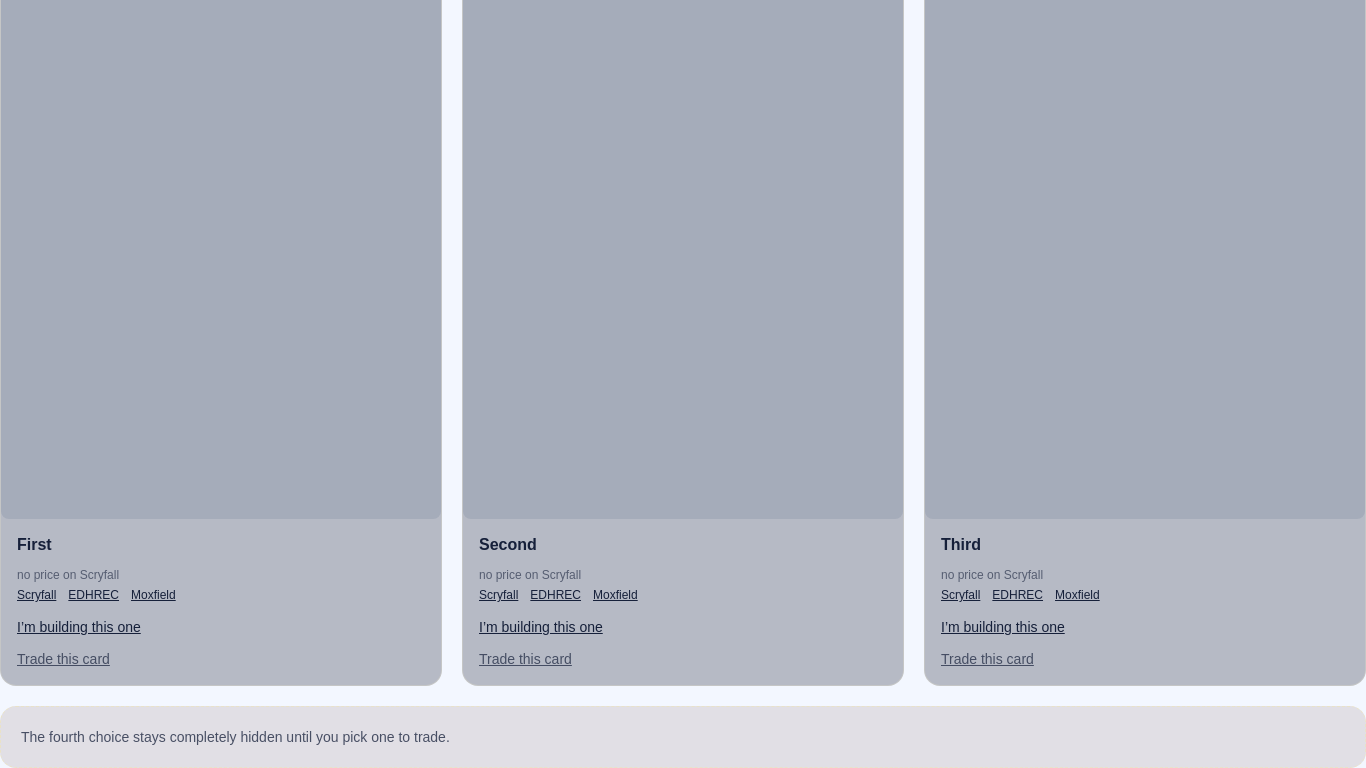
DemoCardTrade › removes every trade control once the cash-in is spent
(page scrolled)
Click the button "Trade this card" below "First". click: x=63, y=659
box: [17,649,110,669]
(page scrolled)
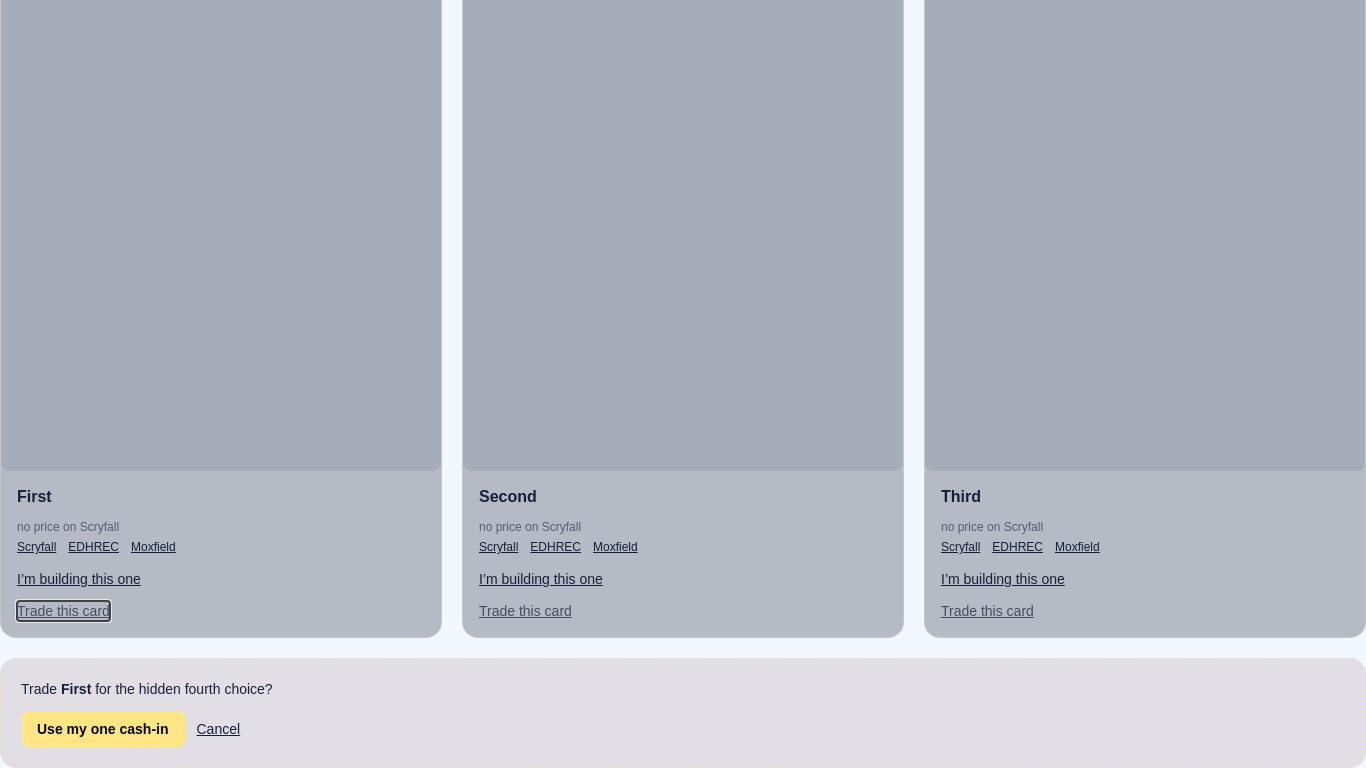
Click the button "Use my one cash-in". click: x=103, y=729
box: [21,711,184,747]
(page scrolled)
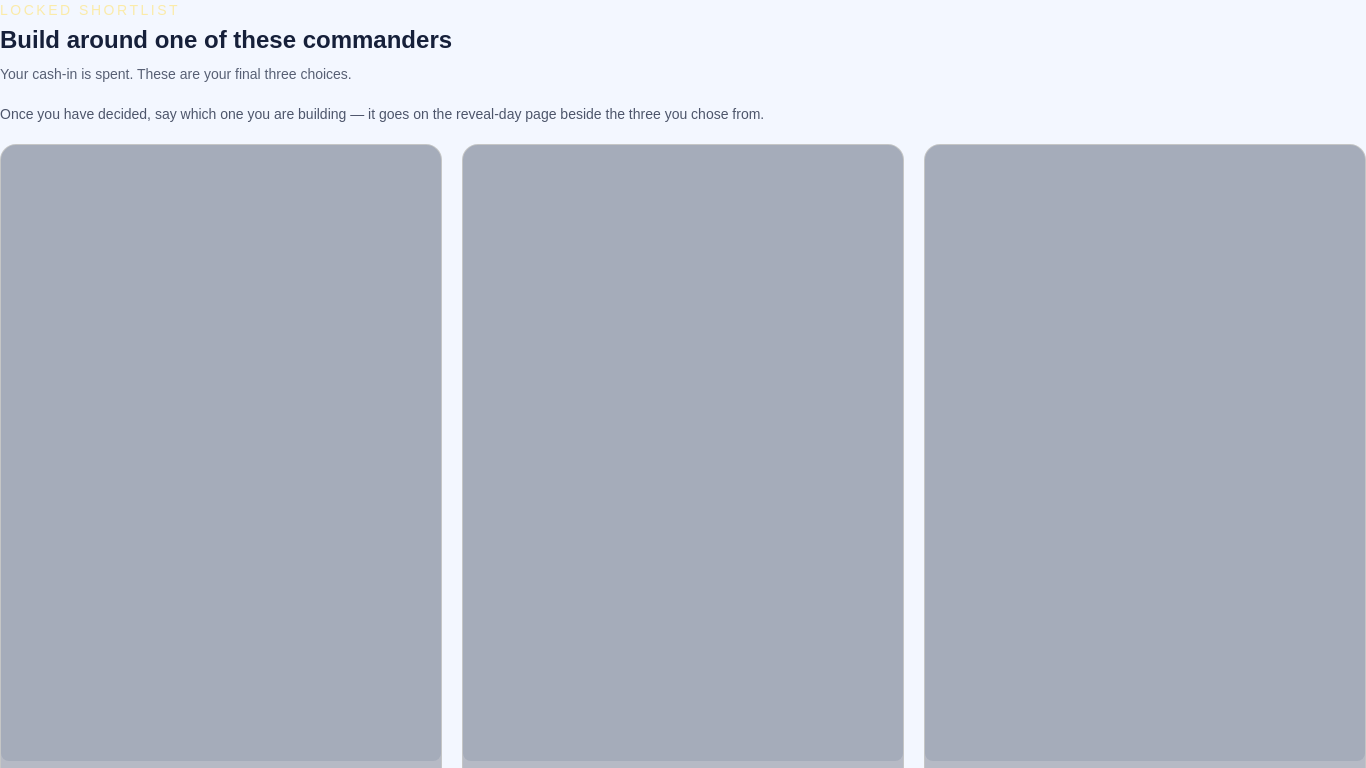
Check: no buttons "Trade this" are shown
Check: the text "Your cash-in is spent. These are your final three choices." is shown, box [0,66,352,82]
